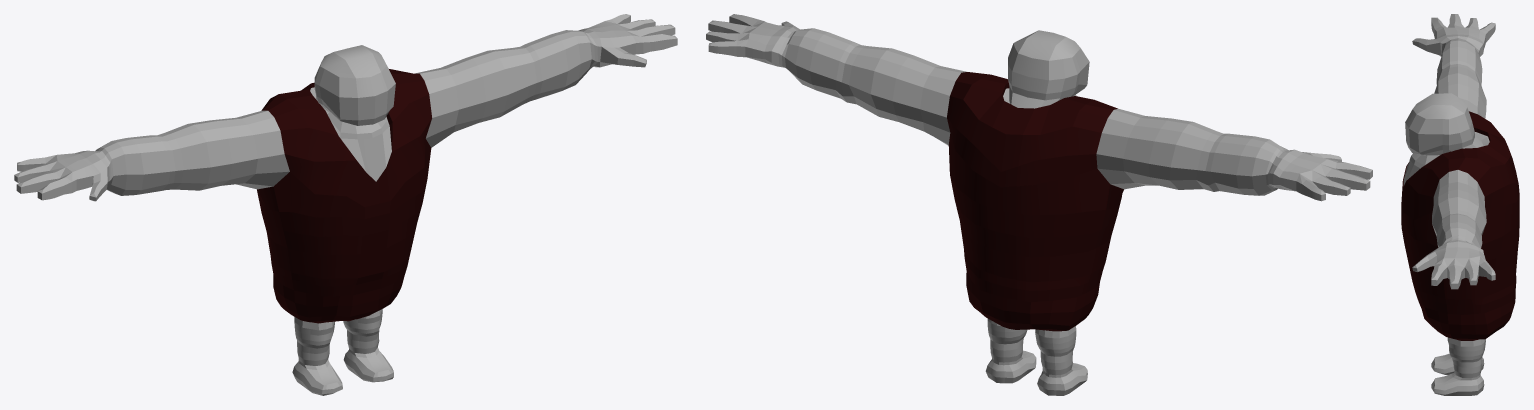
Rendered from Character_20145.fbx.
3 renders of one model, left to right at view 1: azimuth 30°, elevation 25°; view 2: azimuth 150°, elevation 25°; view 3: azimuth 270°, elevation 25°, orthographic. The views are drawn at different scales.
Visible parts, largest first — view 1: pCube3; view 2: pCube3; view 3: pCube3.
Boxes of the visible parts, x1,y1,x2,y2 form: pCube3: [14, 14, 677, 395]; pCube3: [706, 14, 1372, 395]; pCube3: [1401, 14, 1519, 395].
Size of the model in its own units: 514 by 249 by 95.55.
